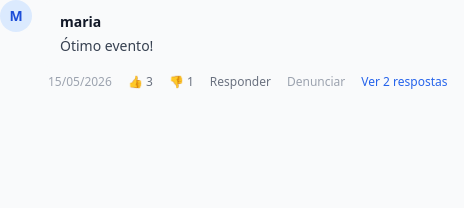
Scenario: Comment › carrega respostas ao clicar em "Ver X respostas"
Click the button "Ver 2 respostas". click: (404, 82)
box: [361, 74, 448, 90]
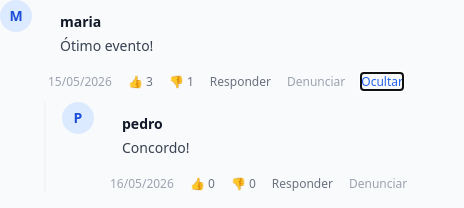
Now the text "Concordo!" is shown, box [122, 138, 190, 157]
